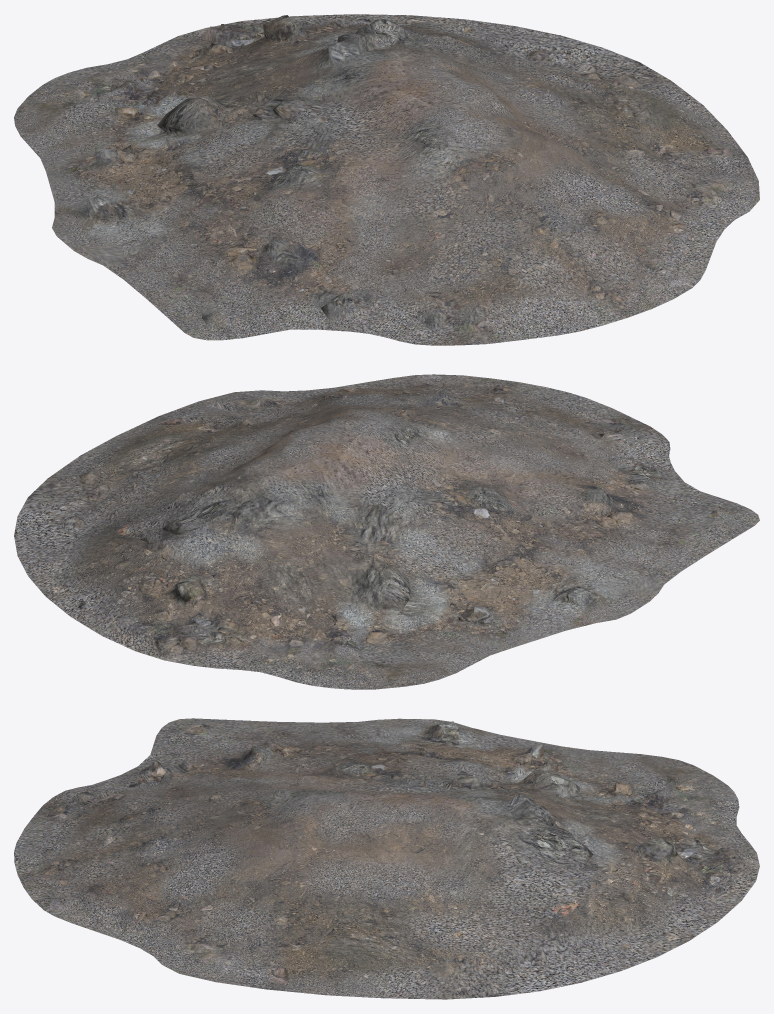
The model's file is gravel.fbx.
The picture shows the model from 3 angles, top to bottom: view 1: azimuth 30°, elevation 25°; view 2: azimuth 150°, elevation 25°; view 3: azimuth 270°, elevation 25°; orthographic projection. The views are drawn at different scales.
Visible parts, largest first — view 1: hromada_hlina_01_30k; view 2: hromada_hlina_01_30k; view 3: hromada_hlina_01_30k.
Part boxes in pixels (box(x1,y1,x2,y2)): hromada_hlina_01_30k: box(14, 14, 759, 345); hromada_hlina_01_30k: box(14, 374, 759, 689); hromada_hlina_01_30k: box(14, 718, 759, 999).
Bounding box in the file's own units: 5240 × 655 × 5885.
